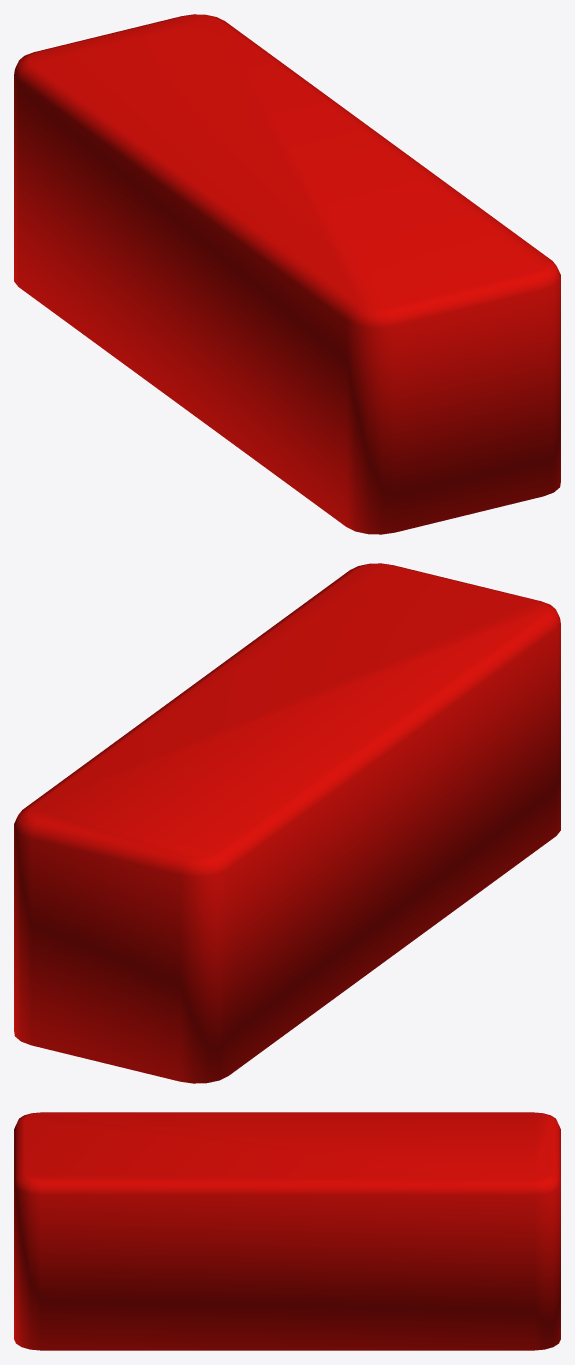
File: RectangleButtonTop.fbx
3 views of the same model, one above another, from view 1: azimuth 30°, elevation 25°; view 2: azimuth 150°, elevation 25°; view 3: azimuth 270°, elevation 25° (orthographic). The views are drawn at different scales.
Parts seen in each view (by area): view 1: RectangleButtonTop; view 2: RectangleButtonTop; view 3: RectangleButtonTop.
Part boxes in pixels (bbox=[...]): RectangleButtonTop: bbox=[14, 14, 560, 534]; RectangleButtonTop: bbox=[14, 563, 560, 1083]; RectangleButtonTop: bbox=[14, 1112, 560, 1350].
Bounding box in the file's own units: 200 × 200 × 600.
